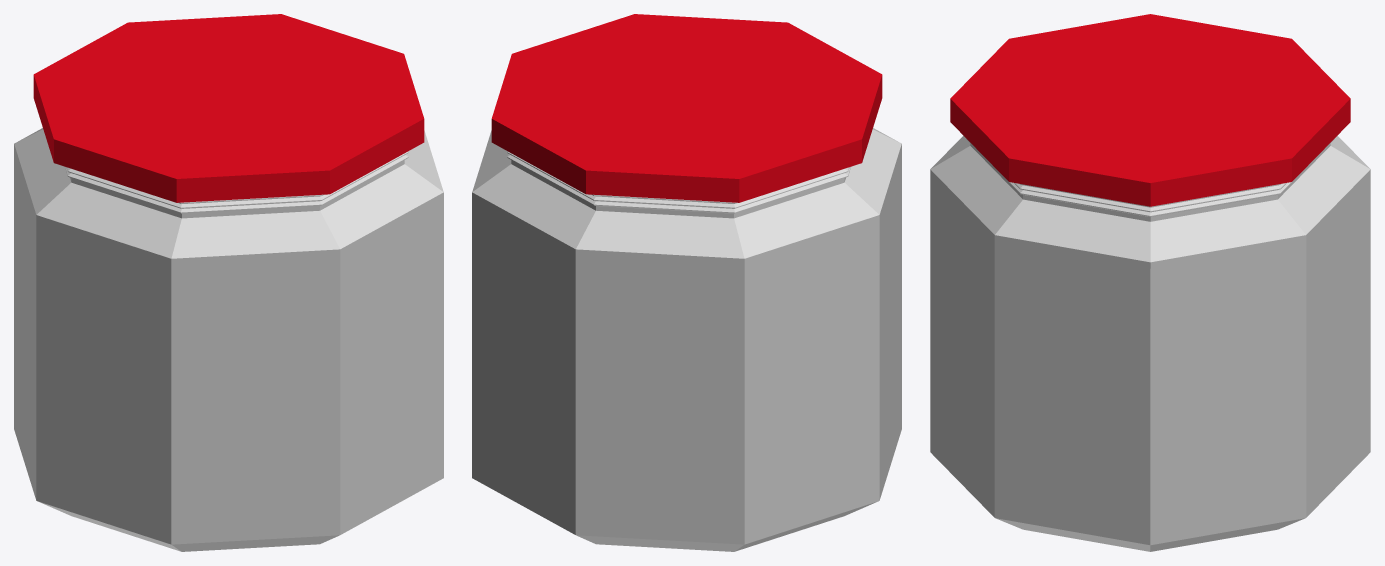
The model's file is JamJar.fbx.
3 renders of one model, left to right at view 1: azimuth 30°, elevation 25°; view 2: azimuth 150°, elevation 25°; view 3: azimuth 270°, elevation 25°, orthographic.
Visible parts, largest first — view 1: RecItem_Jam_Jar; view 2: RecItem_Jam_Jar; view 3: RecItem_Jam_Jar.
Part boxes in pixels (x1,y1,x2,y2): RecItem_Jam_Jar: (14,14,443,551); RecItem_Jam_Jar: (472,14,901,551); RecItem_Jam_Jar: (930,14,1370,551).
Size of the model in its own units: 220 by 208 by 220.
